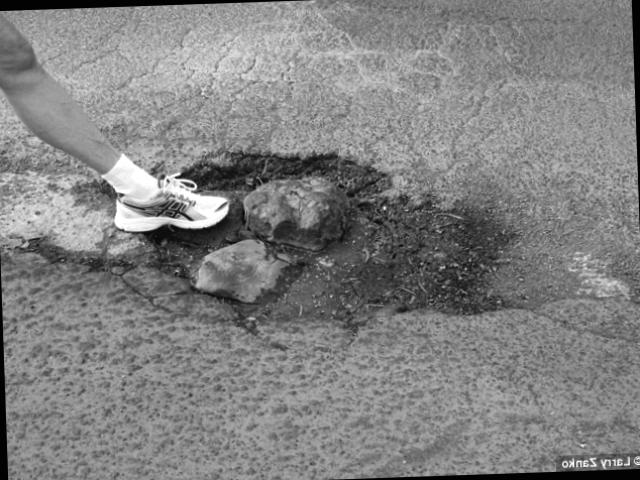Pothole: (0, 92, 529, 345)
